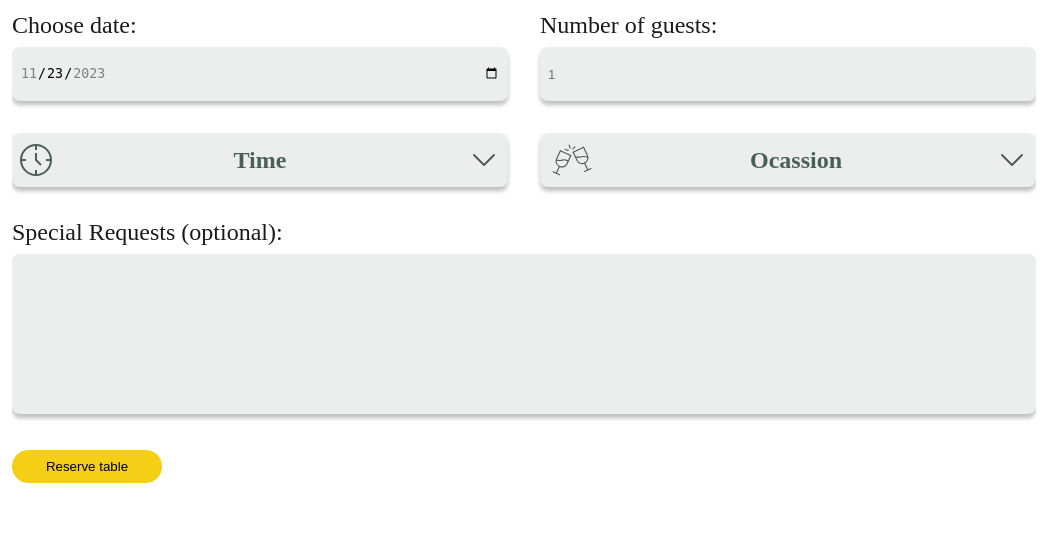
Scenario: ReservationForm component › Validates form data before submitting
This screenshot has width=1048, height=536.
# Click the reserve btn without filling data
Click the button "Reserve table" at coordinates (87, 466), box [12,450,162,483]
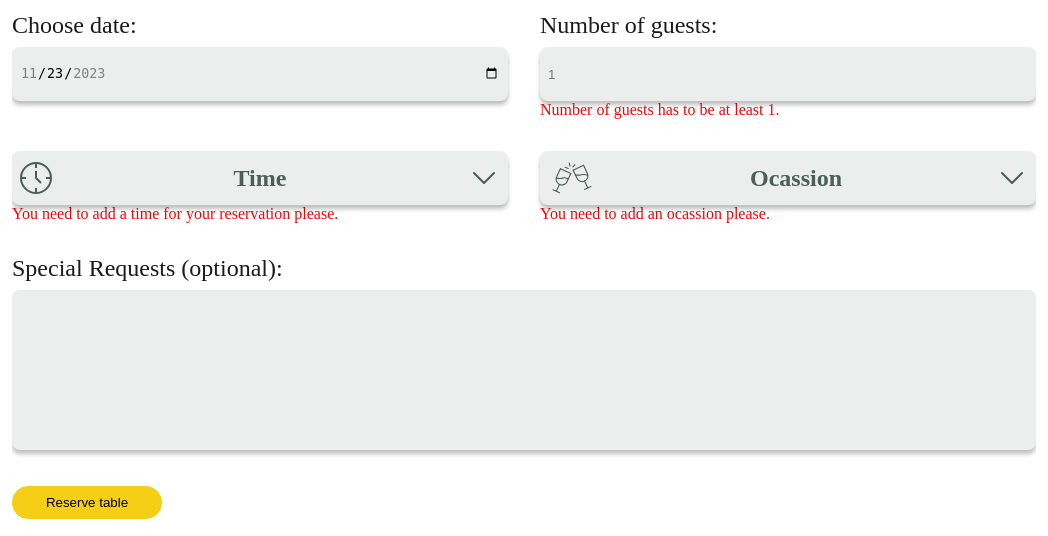
Expected: the text "Number of guests has to be at least 1." is shown, [540,101,780,118]
Expected: the text "You need to add a time for your reservation please." is shown, [12,205,338,222]
Expected: the text "You need to add an ocassion please." is shown, [540,205,770,222]
